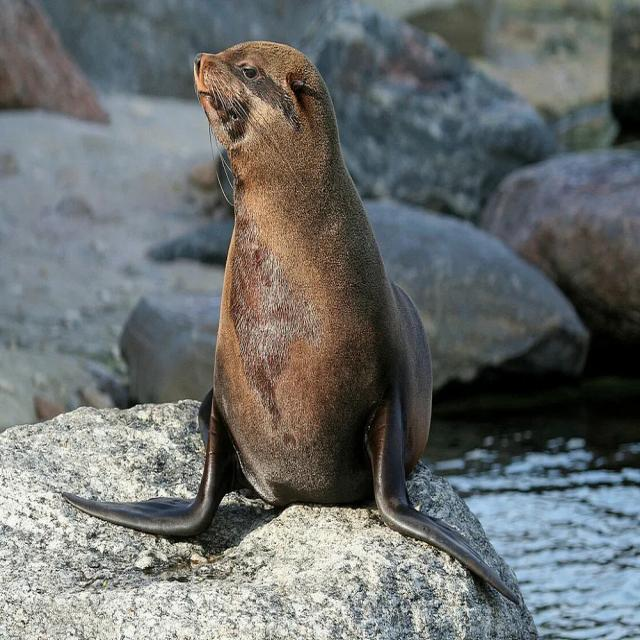WaterDog: (188, 32, 442, 512)
